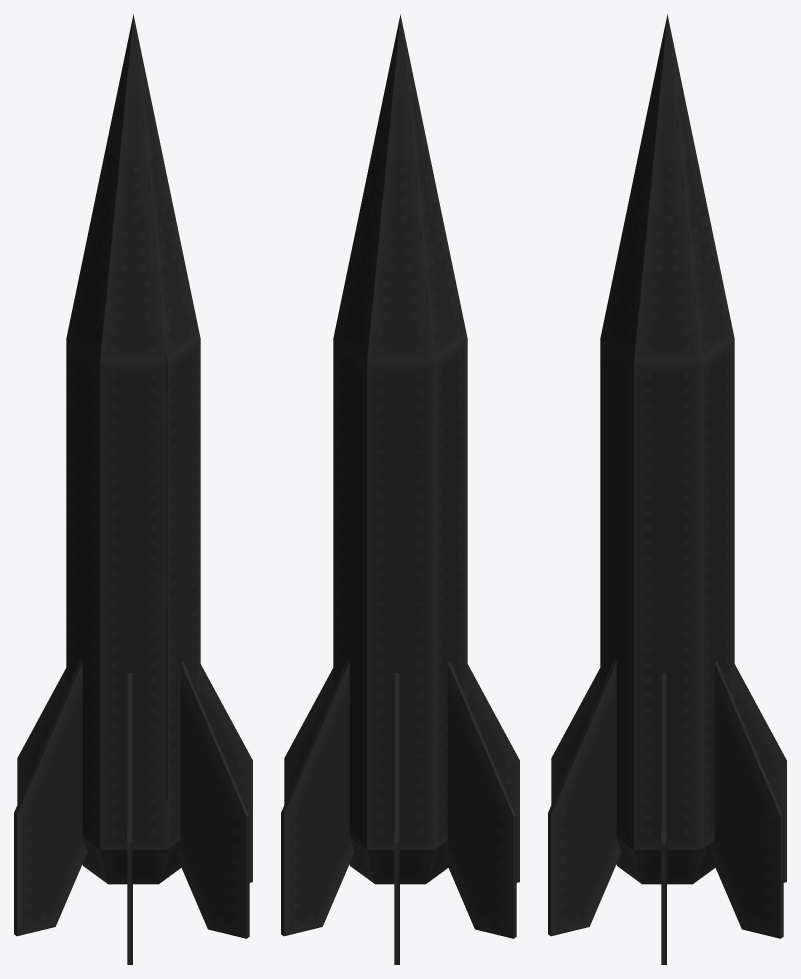
The model's file is missile_stealth.obj.
3 views of the same model, side by side, from view 1: azimuth 30°, elevation 25°; view 2: azimuth 150°, elevation 25°; view 3: azimuth 270°, elevation 25° (orthographic).
Visible parts, largest first — view 1: missile_stealth; view 2: missile_stealth; view 3: missile_stealth.
Boxes of the visible parts, bbox=[...] form: missile_stealth: bbox=[14, 14, 252, 964]; missile_stealth: bbox=[281, 14, 519, 964]; missile_stealth: bbox=[548, 14, 786, 964].
Size of the model in its own units: 3 by 11.02 by 2.67.
